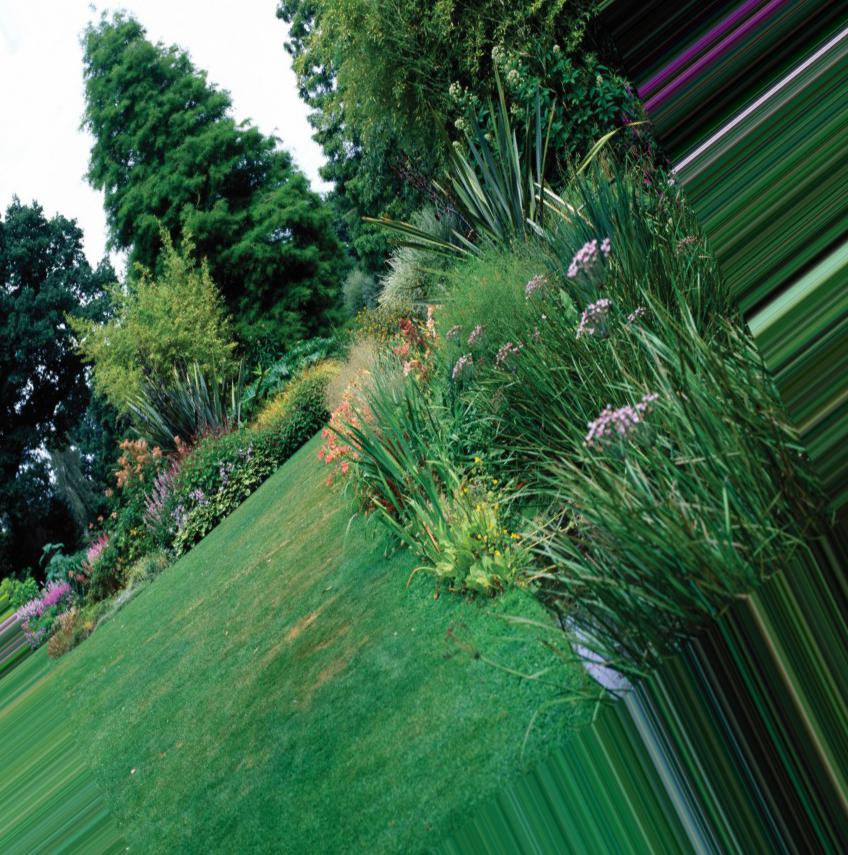patch: (323, 351, 379, 387), (281, 601, 322, 643)
